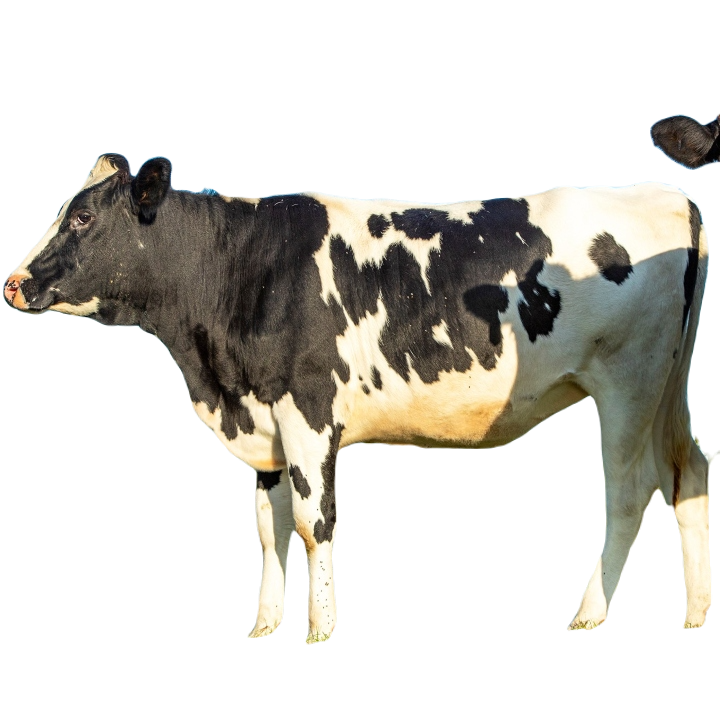Cow: (1, 153, 719, 644)
